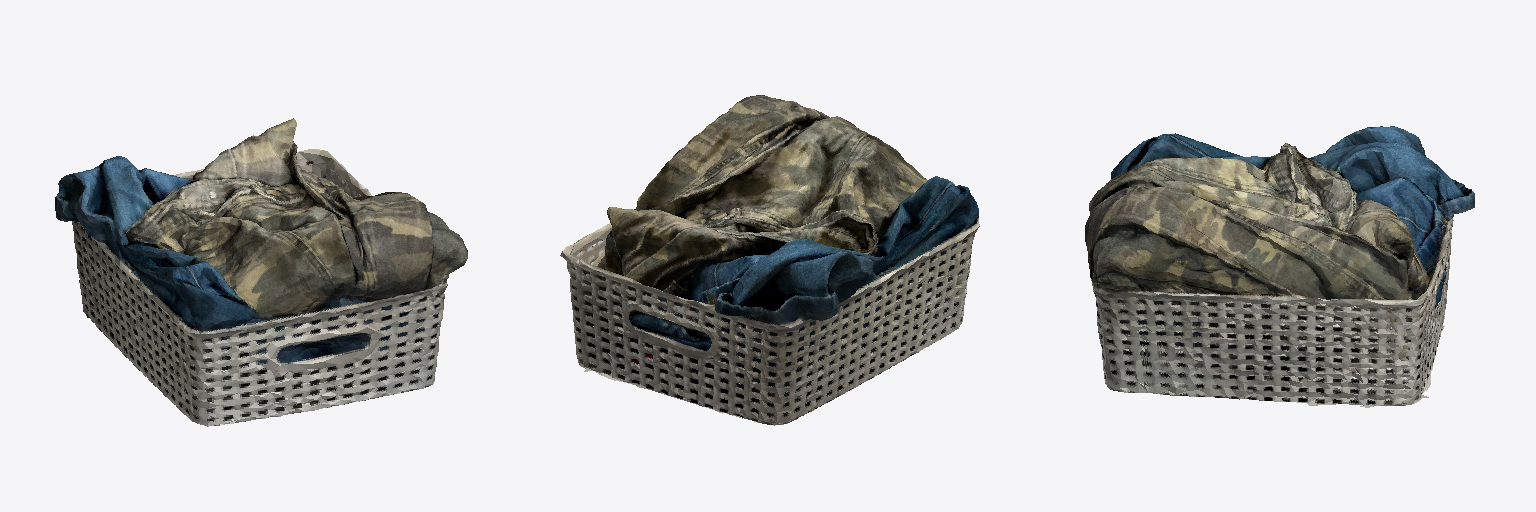
3 renders of one model, left to right at view 1: azimuth 30°, elevation 25°; view 2: azimuth 150°, elevation 25°; view 3: azimuth 270°, elevation 25°, orthographic.
Bounding box in the file's own units: 0.5167 × 0.311 × 0.6247.
Materials: 1 (1 with a texture image).